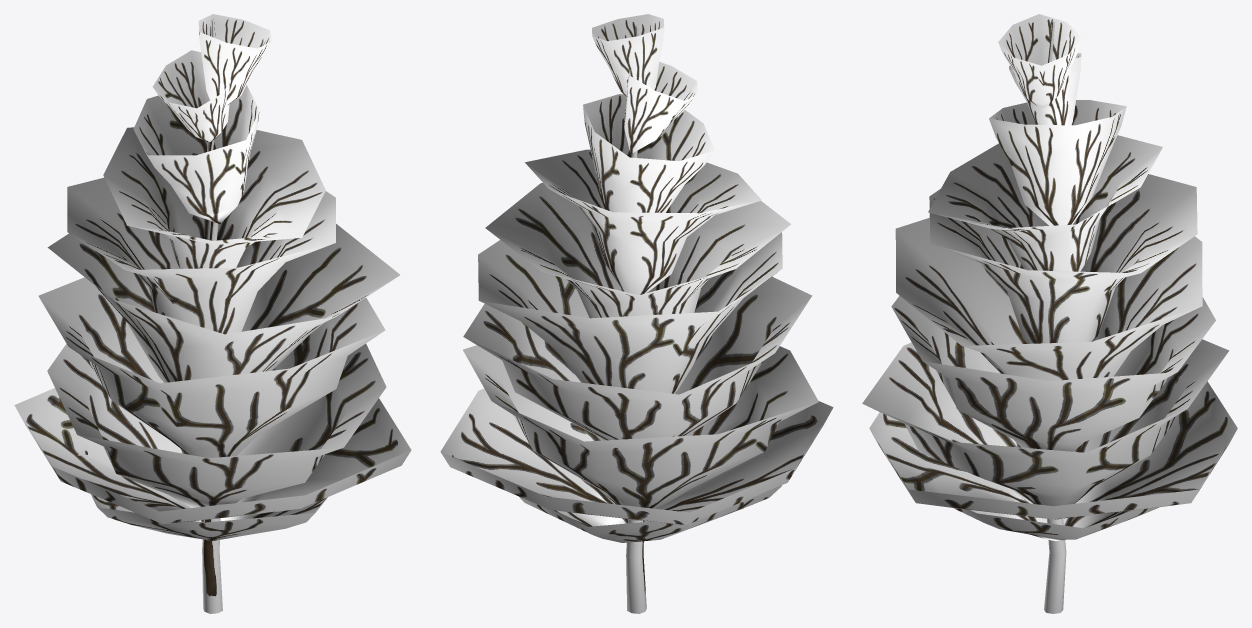
File: dead_cypress_tree_low.fbx
3 renders of one model, left to right at view 1: azimuth 30°, elevation 25°; view 2: azimuth 150°, elevation 25°; view 3: azimuth 270°, elevation 25°, orthographic.
Parts seen in each view (by area): view 1: dead_cypress_low; view 2: dead_cypress_low; view 3: dead_cypress_low.
Part boxes in pixels (x1,y1,x2,y2): dead_cypress_low: [14, 14, 411, 613]; dead_cypress_low: [440, 14, 833, 613]; dead_cypress_low: [862, 14, 1237, 613].
Size of the model in its own units: 240 by 422 by 244.
1 material, 1 textured.
